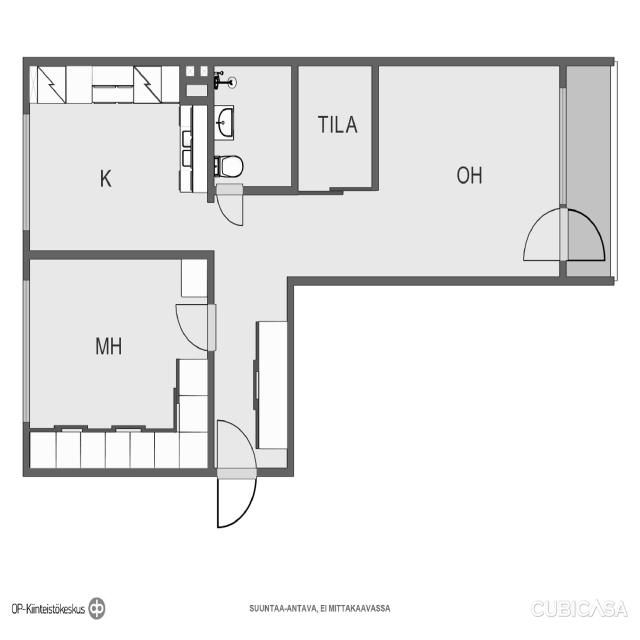door: (211, 414, 259, 531), (558, 200, 612, 265), (518, 200, 566, 266), (172, 297, 219, 353), (216, 185, 246, 228)
window: (20, 270, 33, 432), (554, 82, 570, 206), (19, 110, 34, 240)
zone: (375, 63, 566, 280), (25, 257, 211, 467), (24, 59, 208, 259), (212, 191, 290, 476), (212, 62, 292, 190), (295, 62, 373, 193), (25, 424, 214, 472)
